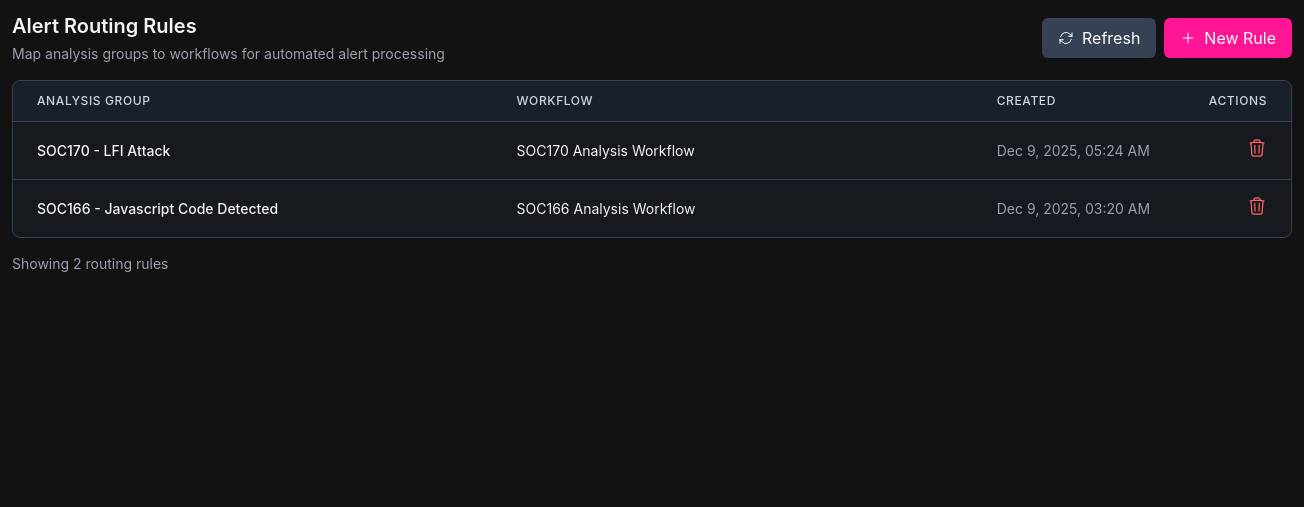
Test case: AlertRoutingRules › creates a new routing rule
The image size is (1304, 507).
Expected: the text "SOC170 - LFI Attack" is shown, [37,142,170,158]
# Open create form
Click the button "New Rule" at (1228, 38), box [1164,18,1292,58]
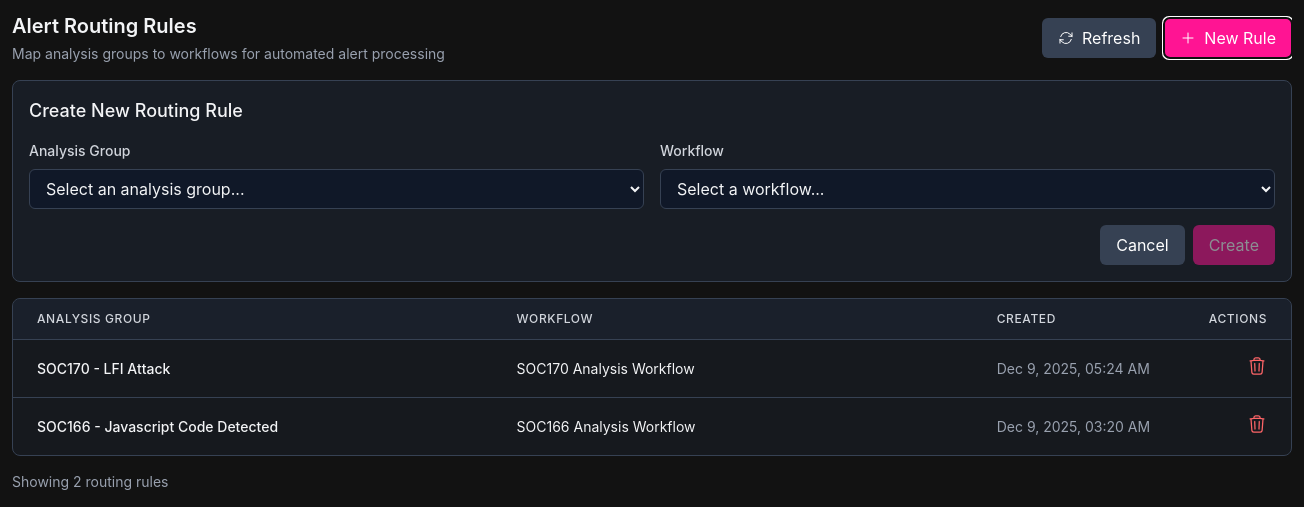
# Select analysis group
Select "SOC170 - LFI Attack" in the dropdown labelled "Analysis Group" at (336, 189), box [29,169,644,209]
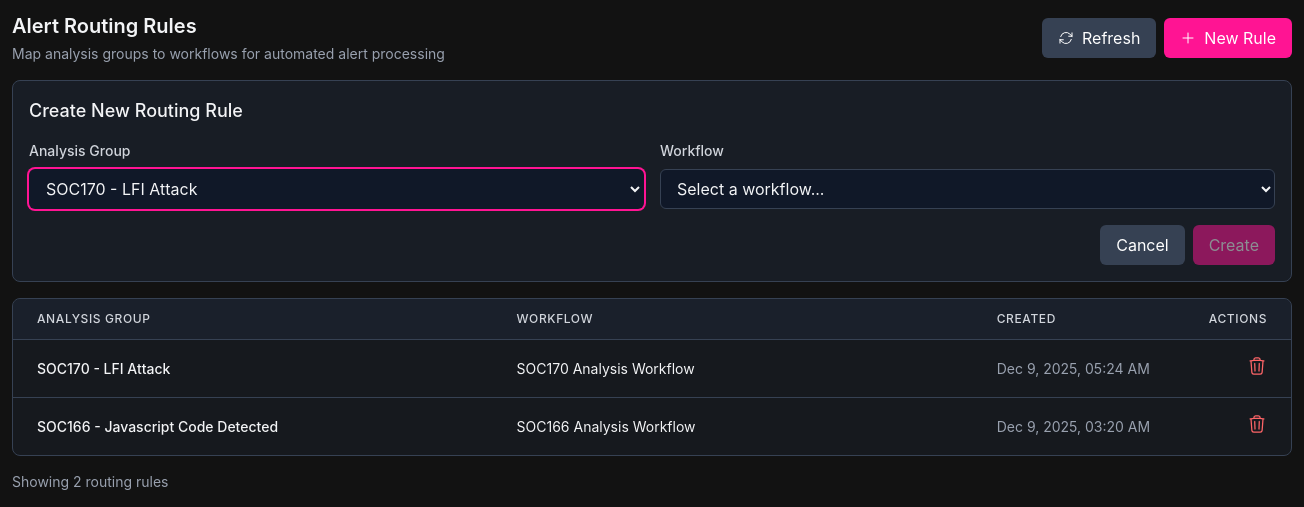
# Select workflow
Select "SOC170 Analysis Workflow" in the dropdown labelled "Workflow" at (968, 189), box [660,169,1275,209]
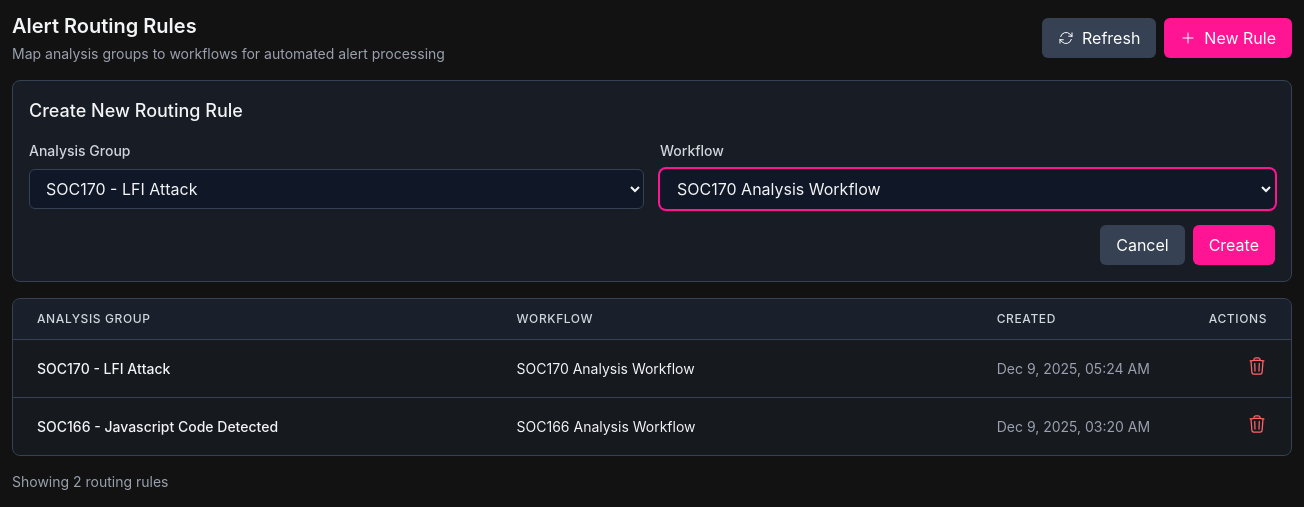
Click the button "Create" at (1234, 245), box [1193,225,1275,265]
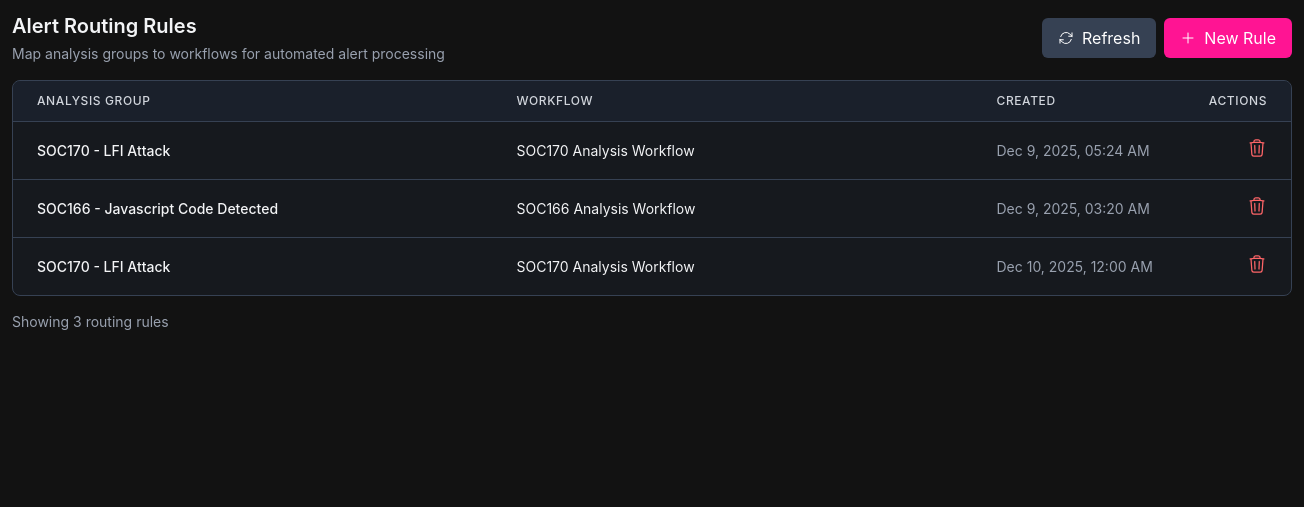
Expected: the heading "Create New Routing Rule" is gone
